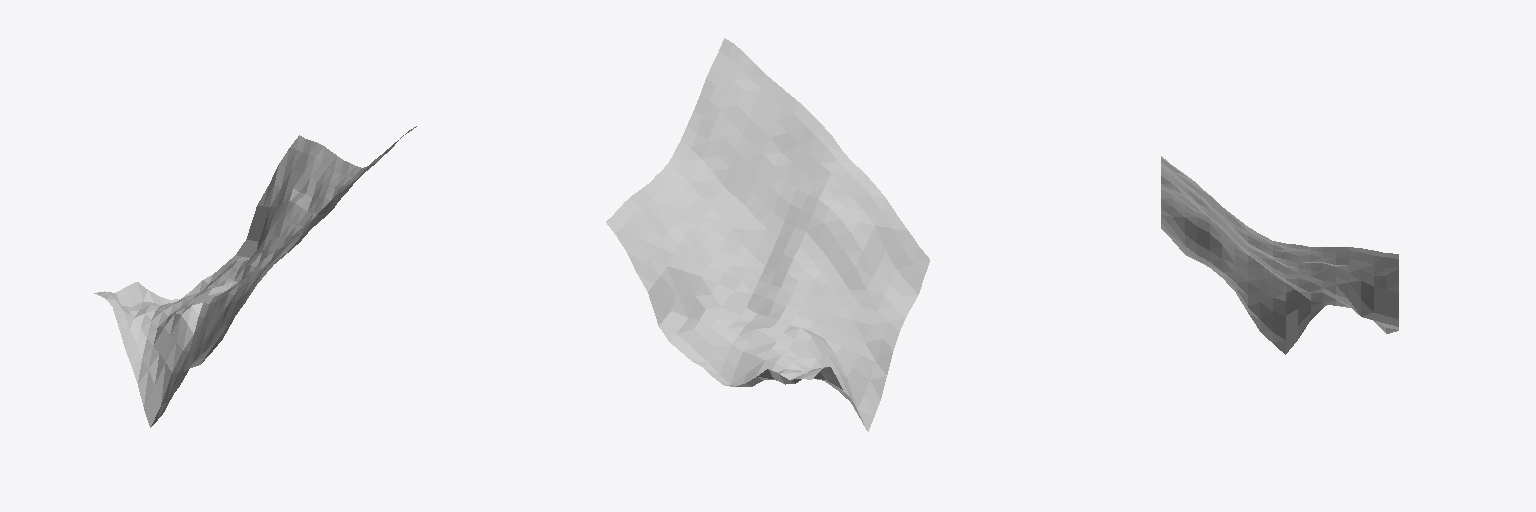
File: terrain_27_27.obj
The picture shows the model from 3 angles: view 1: azimuth 30°, elevation 25°; view 2: azimuth 150°, elevation 25°; view 3: azimuth 270°, elevation 25°; orthographic projection.
Visible parts, largest first — view 1: terrain_27_27_Plane.003; view 2: terrain_27_27_Plane.003; view 3: terrain_27_27_Plane.003.
Boxes of the visible parts, x1,y1,x2,y2 form: terrain_27_27_Plane.003: [94, 126, 416, 427]; terrain_27_27_Plane.003: [606, 38, 929, 431]; terrain_27_27_Plane.003: [1161, 156, 1398, 354].
Size of the model in its own units: 32 by 44.35 by 32.